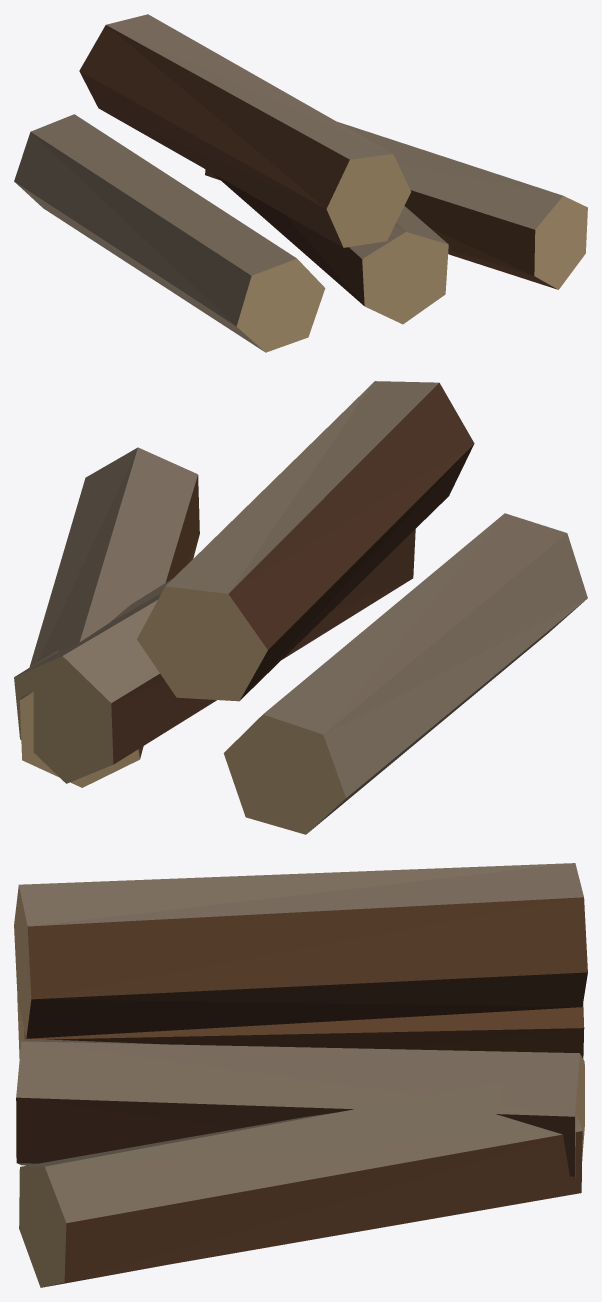
File: logs.glb
3 views of the same model, one above another, from view 1: azimuth 30°, elevation 25°; view 2: azimuth 150°, elevation 25°; view 3: azimuth 270°, elevation 25° (orthographic). The views are drawn at different scales.
Parts seen in each view (by area): view 1: logs; view 2: logs; view 3: logs.
Part boxes in pixels (x1,y1,x2,y2): logs: (14,14,587,352); logs: (14,381,587,834); logs: (14,863,587,1287).
Size of the model in its own units: 0.7645 by 0.3564 by 0.7171.
